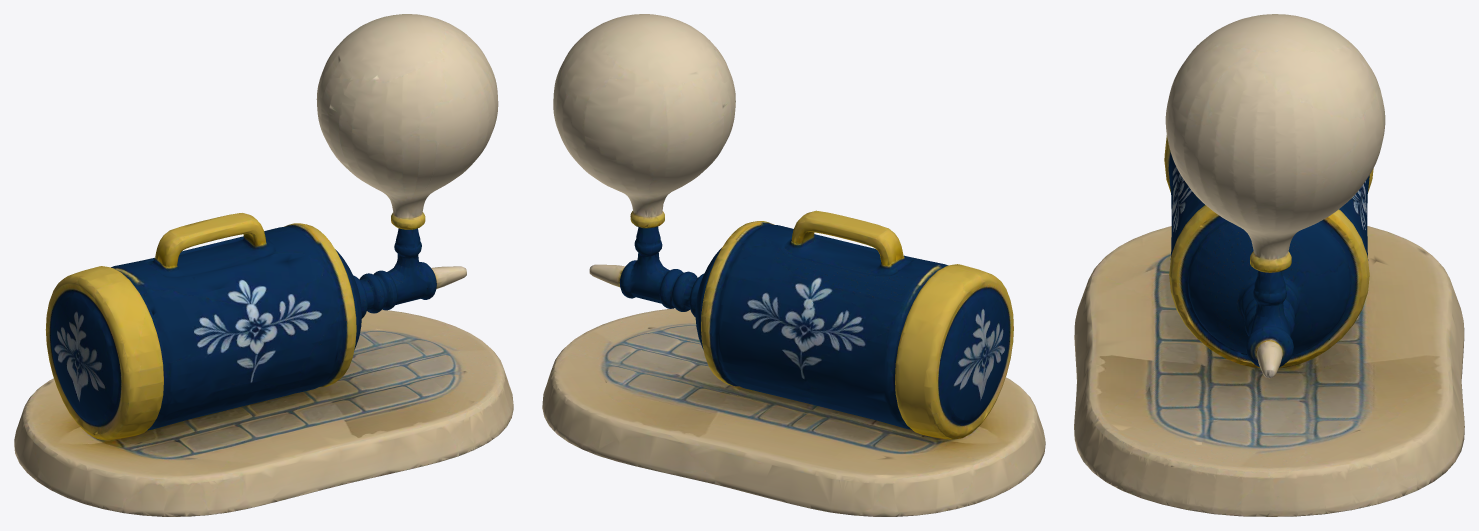
File: compressed_1763391157878_laugh.glb
3 renders of one model, left to right at view 1: azimuth 30°, elevation 25°; view 2: azimuth 150°, elevation 25°; view 3: azimuth 270°, elevation 25°, orthographic. The views are drawn at different scales.
Parts seen in each view (by area): view 1: material; view 2: material; view 3: material.
Boxes of the visible parts, x1,y1,x2,y2 form: material: (14,14,513,516); material: (542,14,1045,516); material: (1074,14,1464,516).
Bounding box in the file's own units: 0.9516 × 0.7399 × 0.5864.
1 material, 1 textured.
